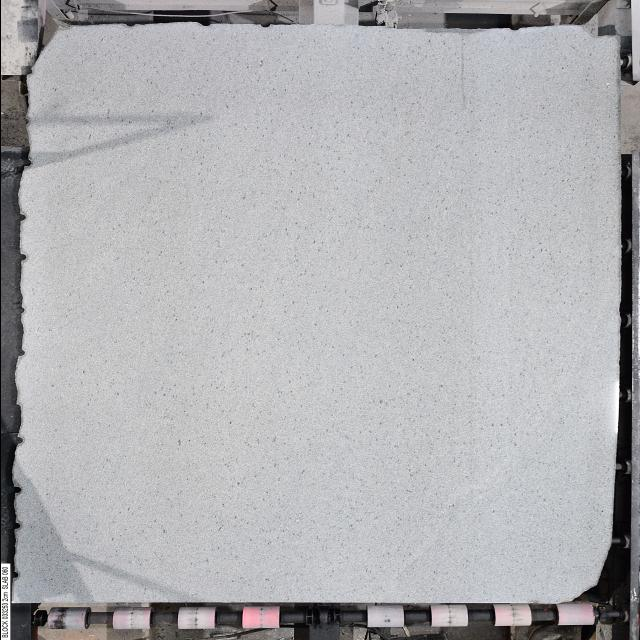chapa: (13, 24, 622, 602)
